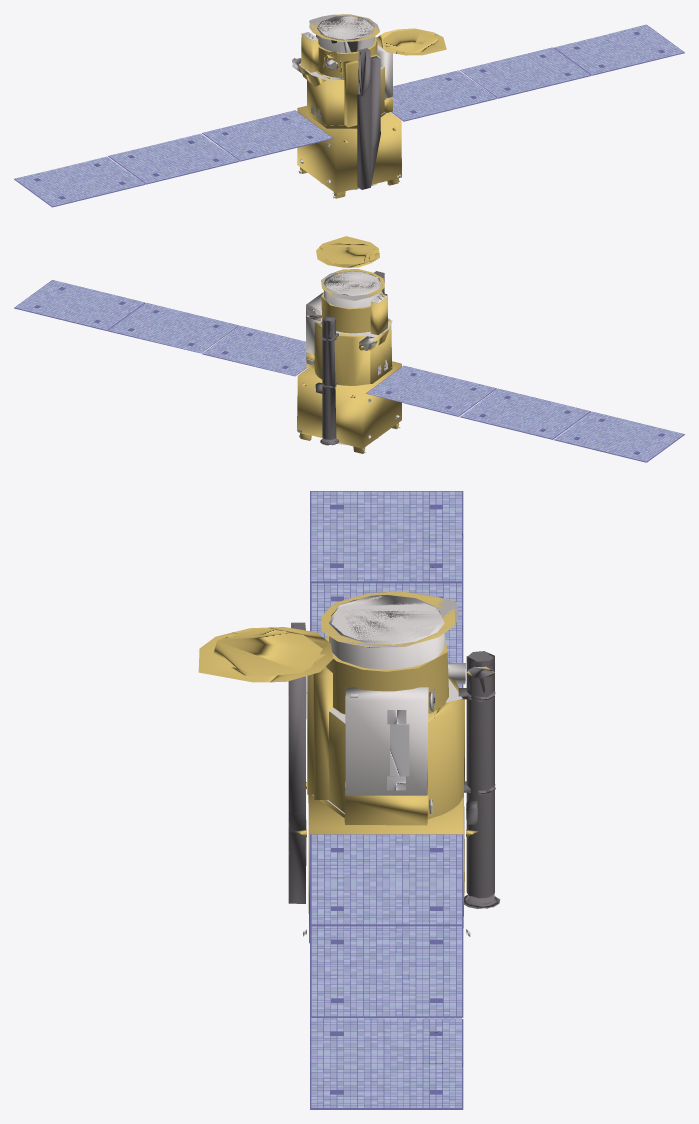
Rendered from hinode.glb.
The picture shows the model from 3 angles, top to bottom: view 1: azimuth 30°, elevation 25°; view 2: azimuth 150°, elevation 25°; view 3: azimuth 270°, elevation 25°; orthographic projection. The views are drawn at different scales.
Parts seen in each view (by area): view 1: Fake; view 2: Fake; view 3: Fake.
Boxes of the visible parts, x1,y1,x2,y2 form: Fake: (14,14,684,207); Fake: (14,236,684,462); Fake: (198,491,500,1109).
Bounding box in the file's own units: 230 × 52.39 × 47.4.
Materials: 1 (1 with a texture image).
